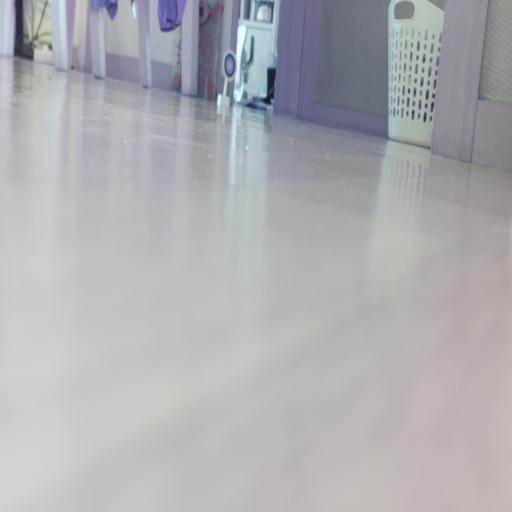target: (223, 50, 236, 80)
